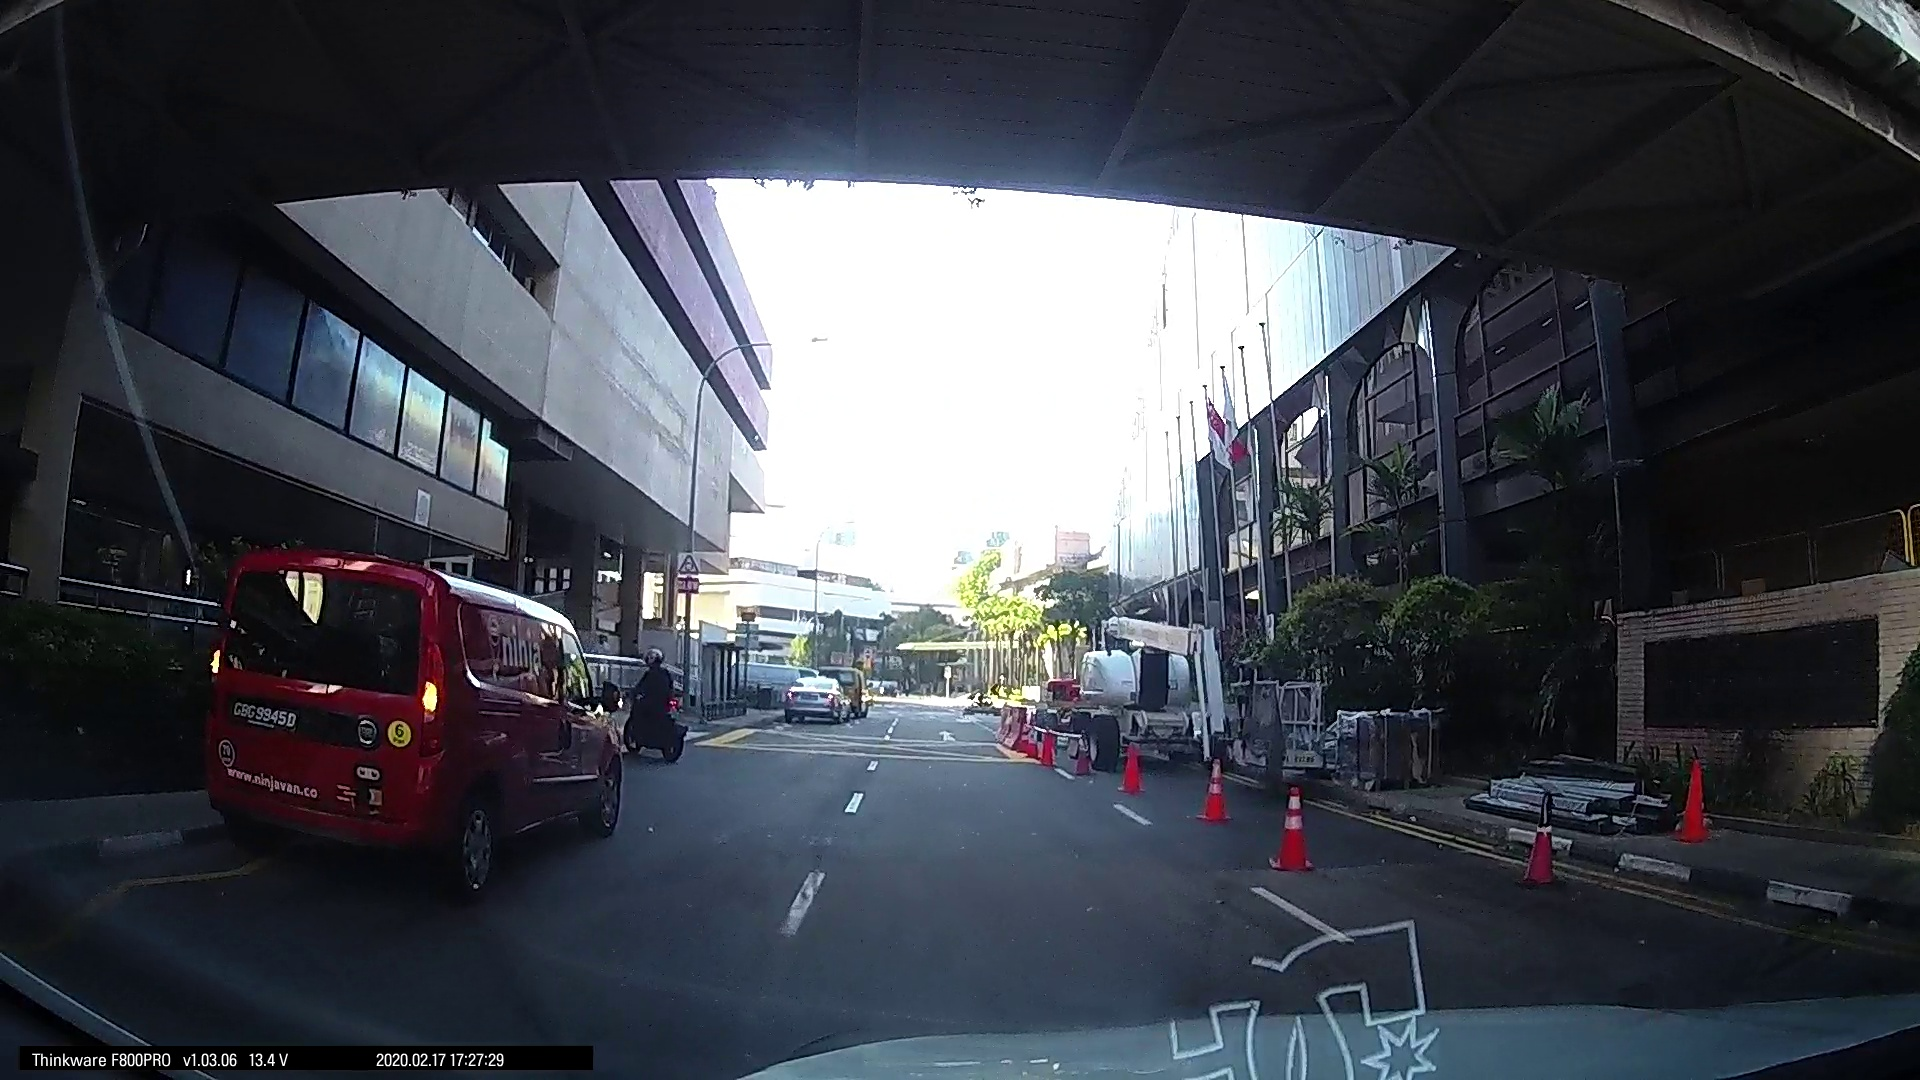Heavy Vehicle: (840, 620, 949, 723)
Light Vehicle: (20, 622, 649, 986), (545, 640, 798, 837), (1478, 658, 1701, 808), (1393, 676, 1491, 767), (1331, 680, 1404, 754), (1149, 649, 1208, 705), (1021, 654, 1065, 695), (947, 647, 984, 684)
